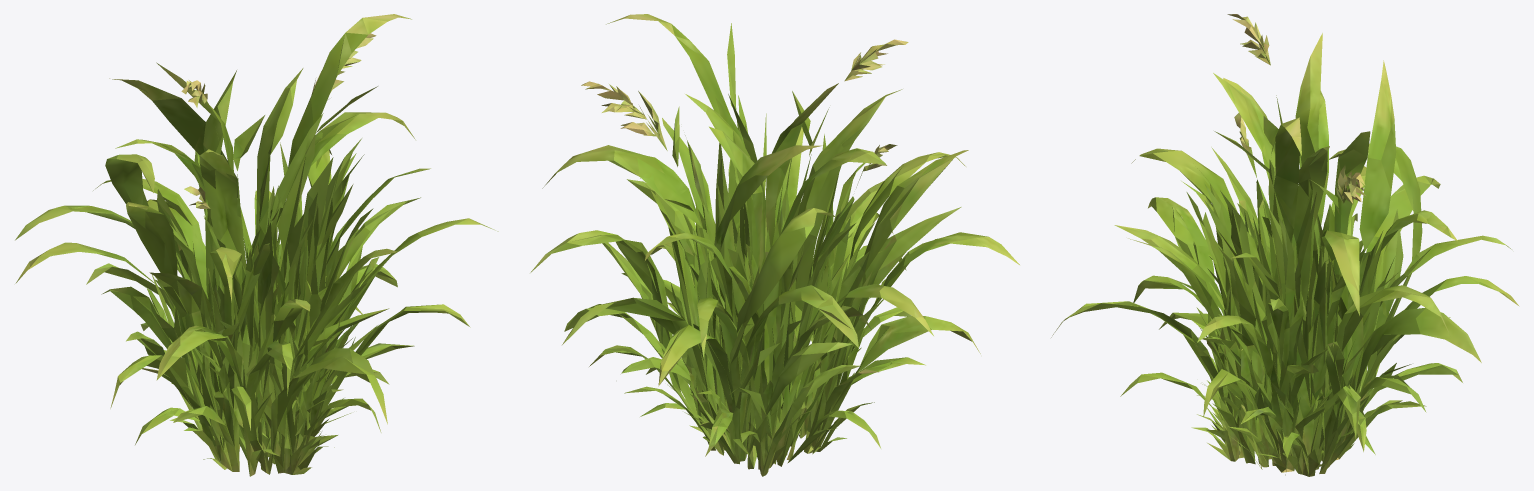
The model's file is forest_grass.glb.
3 views of the same model, side by side, from view 1: azimuth 30°, elevation 25°; view 2: azimuth 150°, elevation 25°; view 3: azimuth 270°, elevation 25° (orthographic). The views are drawn at different scales.
Parts seen in each view (by area): view 1: output_unwrapped; view 2: output_unwrapped; view 3: output_unwrapped.
Boxes of the visible parts, left/top/right/bottom form: output_unwrapped: left=15, top=14, right=498, bottom=476; output_unwrapped: left=530, top=14, right=1019, bottom=476; output_unwrapped: left=1051, top=14, right=1519, bottom=476.
Size of the model in its own units: 1.74 by 1.73 by 1.87.
Materials: 1 (1 with a texture image).
